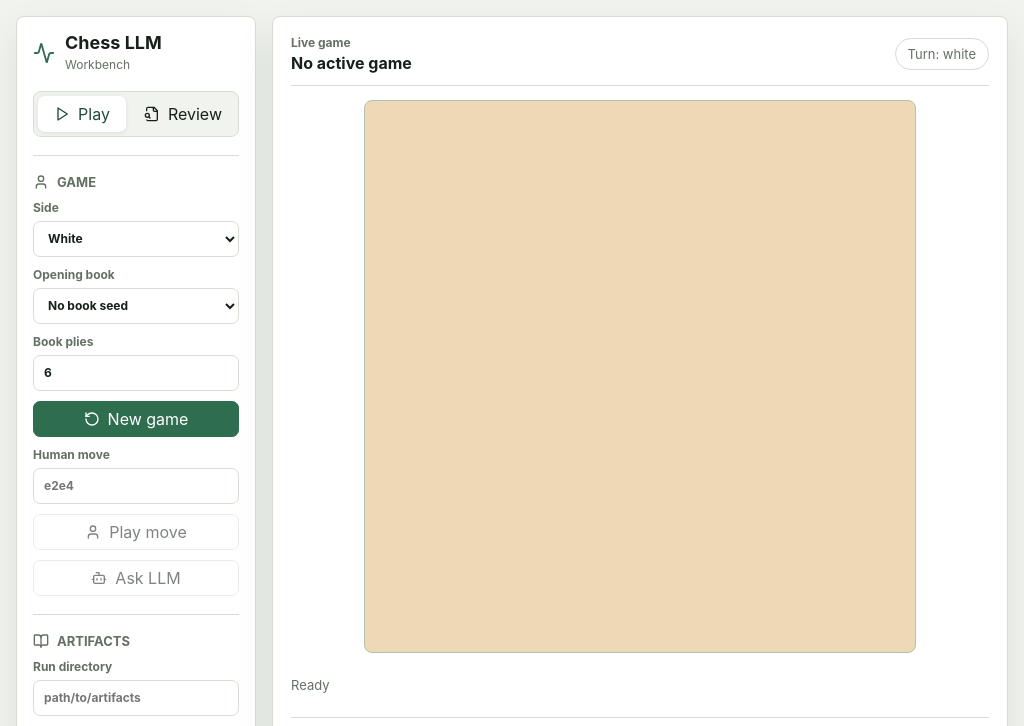
Test: App › renders recovery controls when a live LLM move needs recovery
Click the button "New game".
click(136, 419)  # box [33,401,239,437]
(page scrolled)
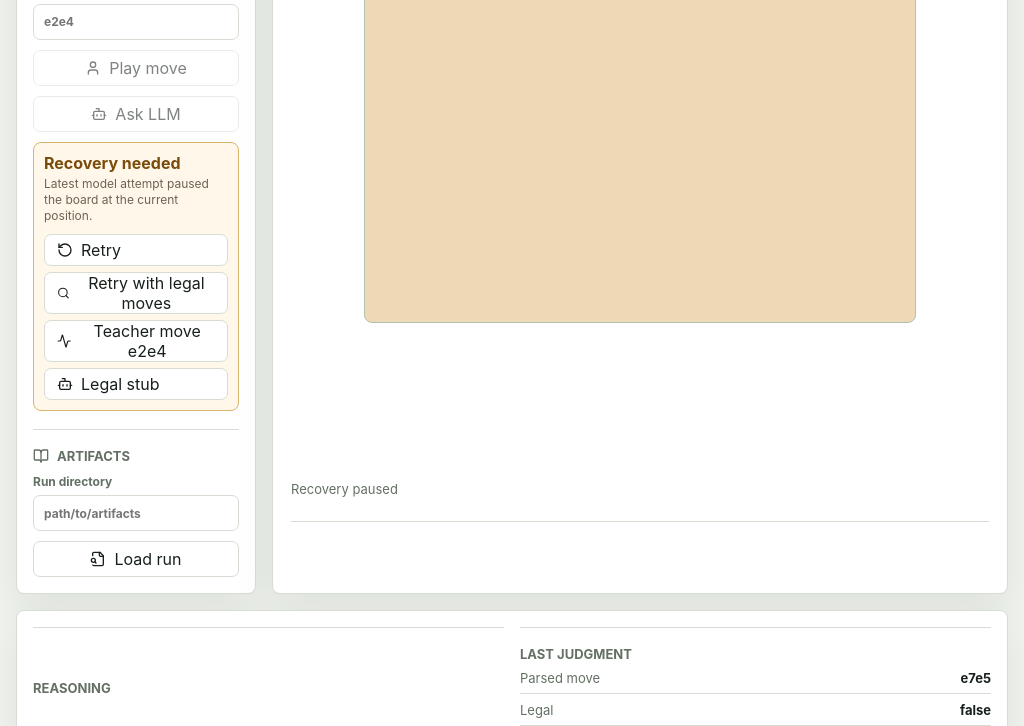
Check: the text "Recovery needed" is shown, box [44,153,180,173]
Check: the button "Retry" is enabled, box [44,234,228,266]
Check: the button "Retry with legal moves" is enabled, box [44,272,228,314]
